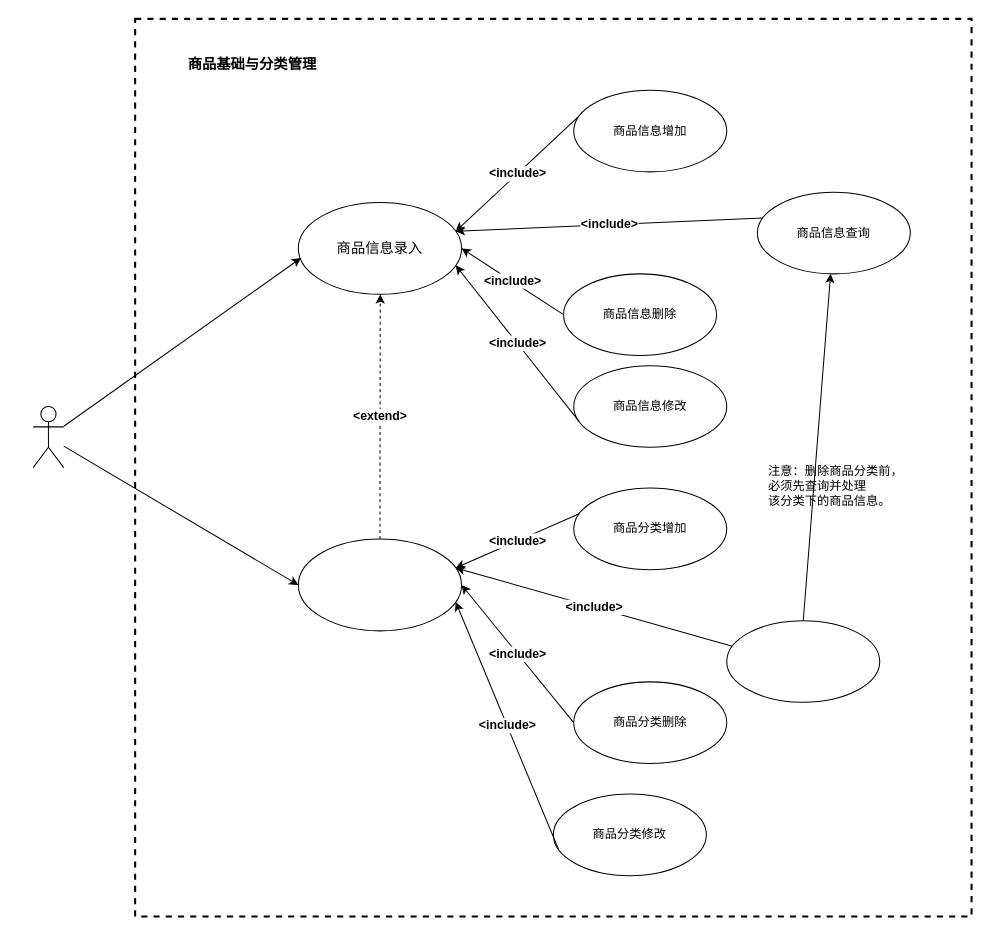
The diagram is 990 pixels wide and 934 high, and some of its shapes have lost their labels. The centre of each missing label's shape, as x and y in pixels:
"商品分类查询" goes at (803,661).
"商品分类管理" goes at (379,584).
"商品管理员" goes at (48,436).
